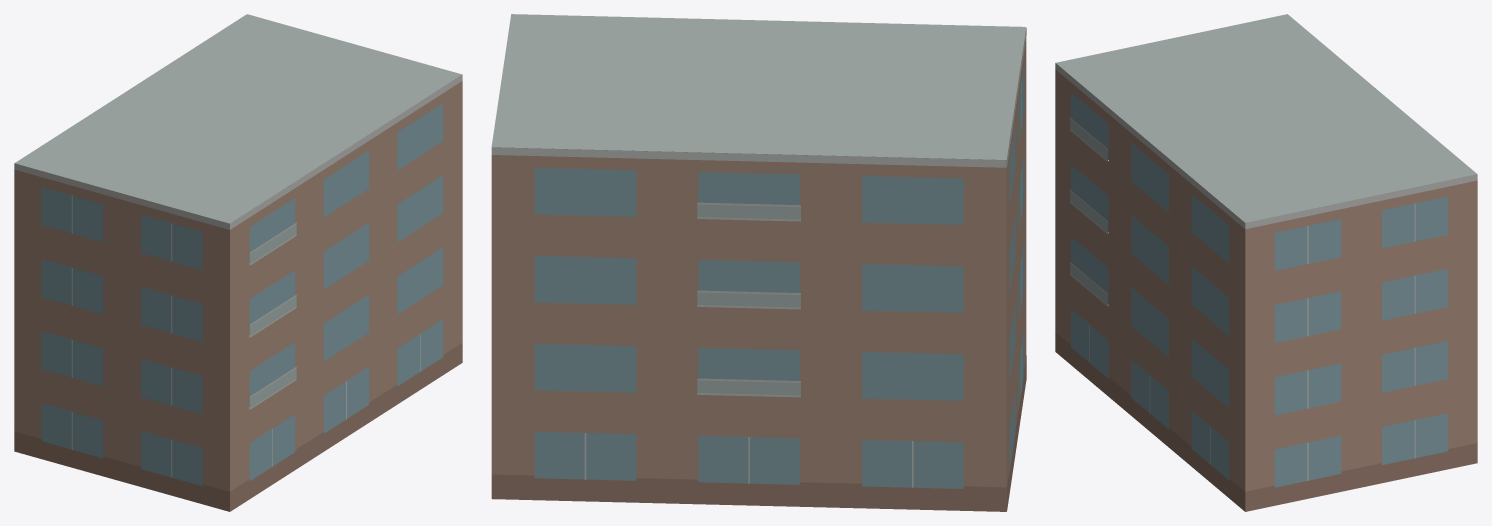
The model's file is survey-upis-32746353.glb.
The picture shows the model from 3 angles, left to right: view 1: azimuth 30°, elevation 25°; view 2: azimuth 150°, elevation 25°; view 3: azimuth 270°, elevation 25°; orthographic projection. The views are drawn at different scales.
Parts seen in each view (by area): view 1: survey-upis-32746353.tmp; view 2: survey-upis-32746353.tmp; view 3: survey-upis-32746353.tmp.
Boxes of the visible parts, <box> form: survey-upis-32746353.tmp: <box>14,14,462,511</box>; survey-upis-32746353.tmp: <box>491,14,1026,511</box>; survey-upis-32746353.tmp: <box>1055,14,1477,511</box>.
Bounding box in the file's own units: 17.29 × 11.14 × 14.76.
